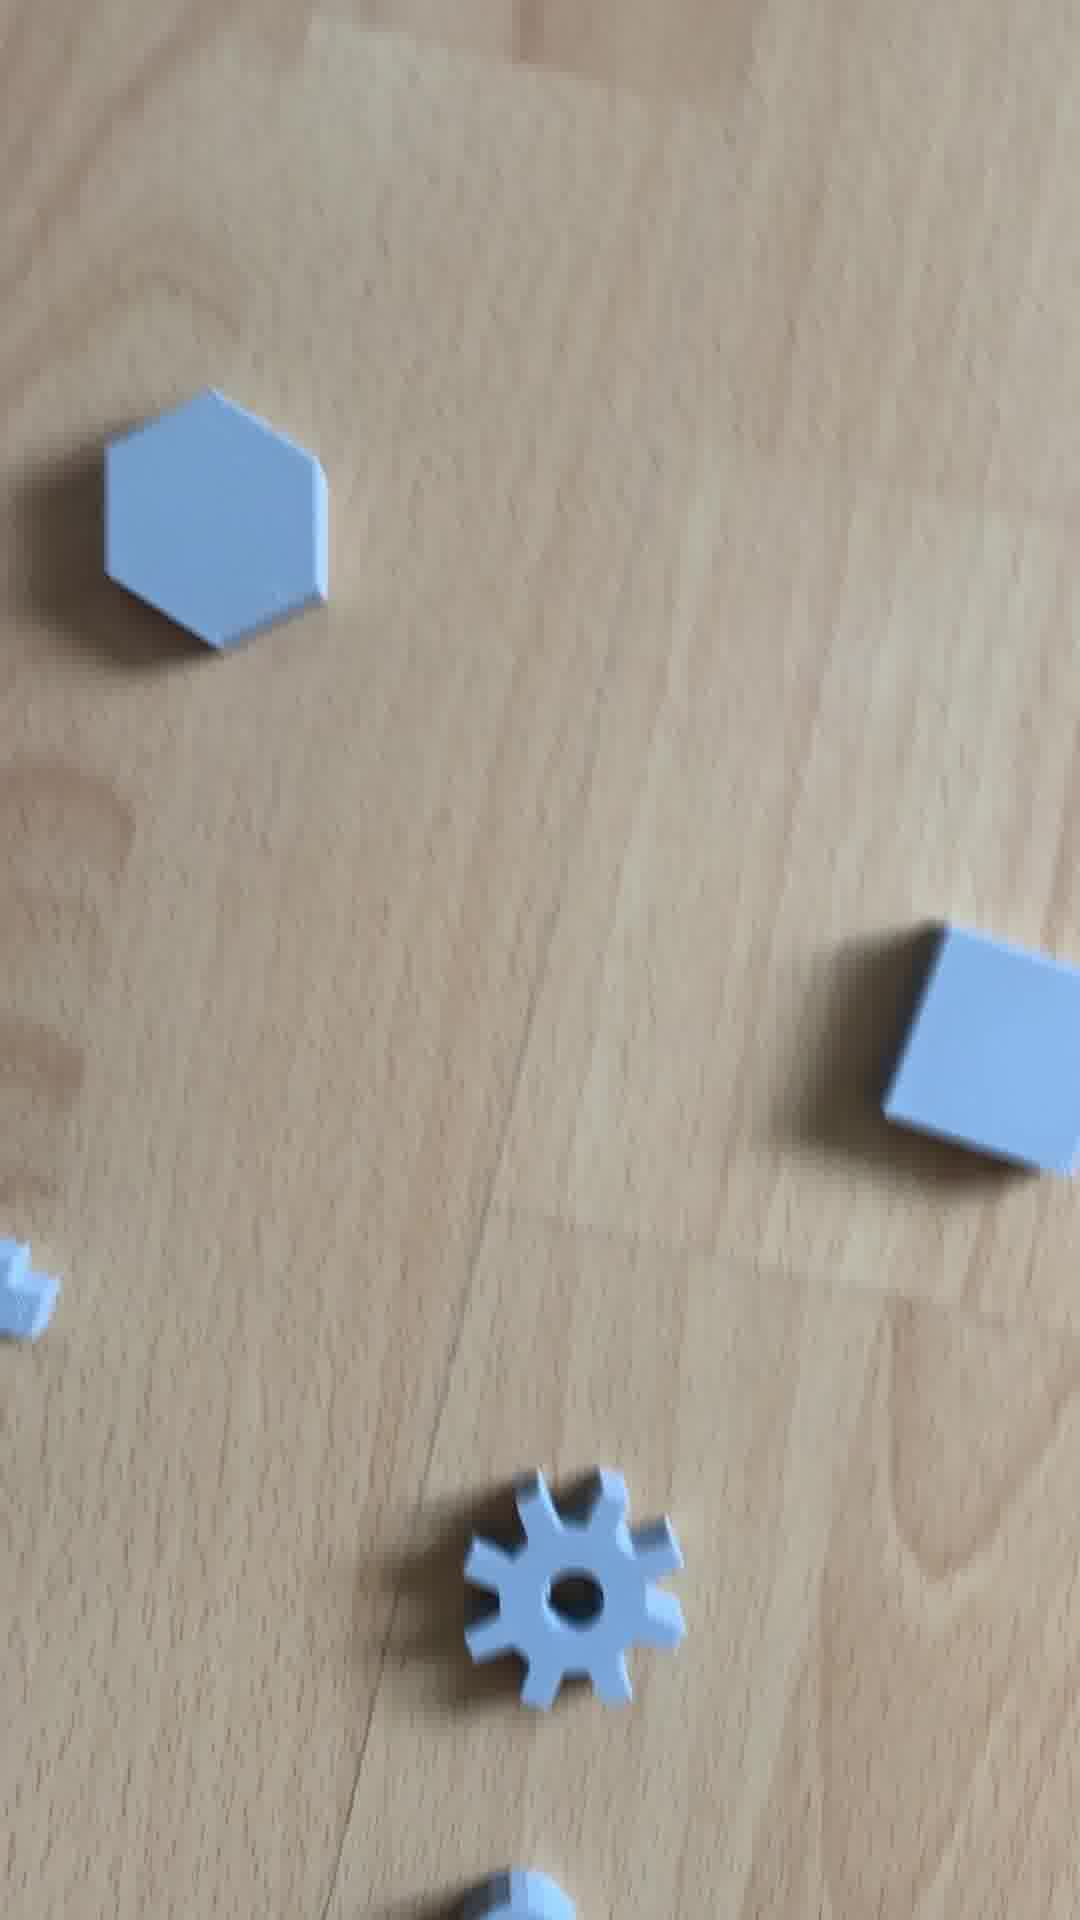Gray gear: (443, 1469, 690, 1698)
Gray hexagon: (88, 371, 339, 671)
Gray square: (862, 926, 1080, 1207)
